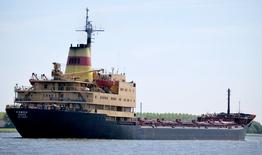Cargoship: (4, 9, 262, 142)
